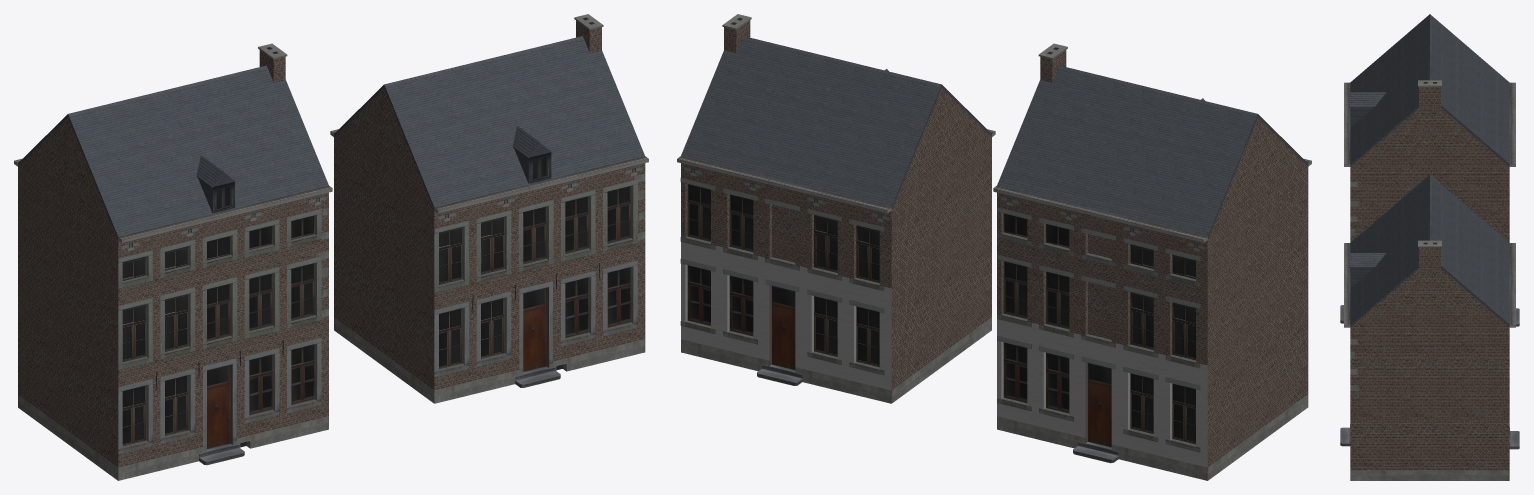
3 views of the same model, side by side, from view 1: azimuth 30°, elevation 25°; view 2: azimuth 150°, elevation 25°; view 3: azimuth 270°, elevation 25° (orthographic). The views are drawn at different scales.
Parts seen in each view (by area): view 1: m; view 2: m; view 3: m.
Part boxes in pixels (x1,y1,x2,y2): m: (14, 14, 648, 480); m: (677, 14, 1311, 480); m: (1340, 14, 1519, 480).
Size of the model in its own units: 20.04 by 12.46 by 7.4.
Materials: 1 (1 with a texture image).
